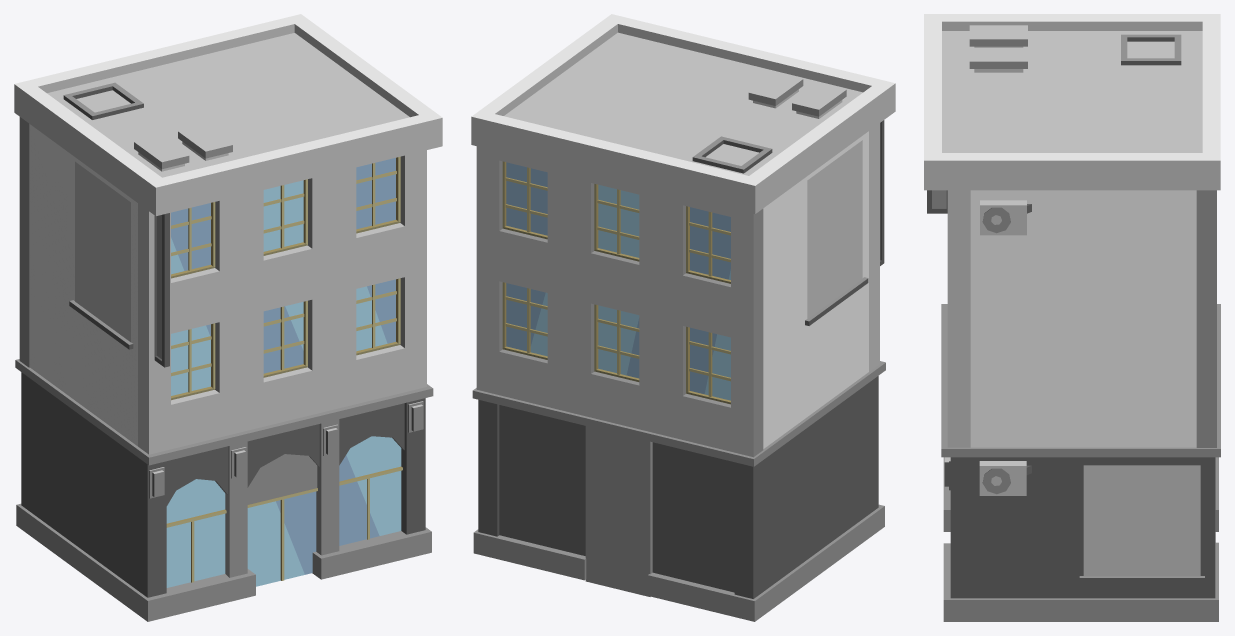
File: hotel_001.glb
The picture shows the model from 3 angles, left to right: view 1: azimuth 30°, elevation 25°; view 2: azimuth 150°, elevation 25°; view 3: azimuth 270°, elevation 25°; orthographic projection. The views are drawn at different scales.
Visible parts, largest first — view 1: hotel_001; view 2: hotel_001; view 3: hotel_001.
Part boxes in pixels (box(x1,y1,x2,y2)): hotel_001: box(14, 14, 442, 621); hotel_001: box(471, 14, 895, 621); hotel_001: box(924, 14, 1220, 621).
Bounding box in the file's own units: 6.1 × 8.87 × 5.11.
Materials: 1 (1 with a texture image).
